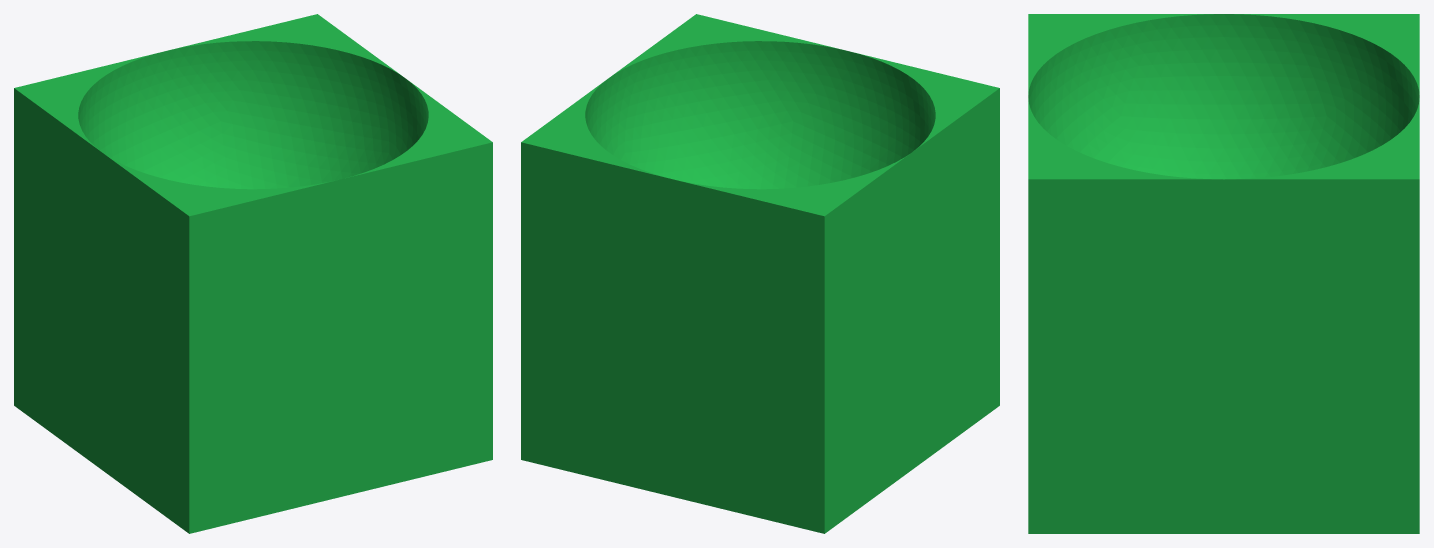
The model's file is block_test.glb.
The picture shows the model from 3 angles, left to right: view 1: azimuth 30°, elevation 25°; view 2: azimuth 150°, elevation 25°; view 3: azimuth 270°, elevation 25°; orthographic projection. The views are drawn at different scales.
Bounding box in the file's own units: 0.000172 × 0.000172 × 0.000172.
